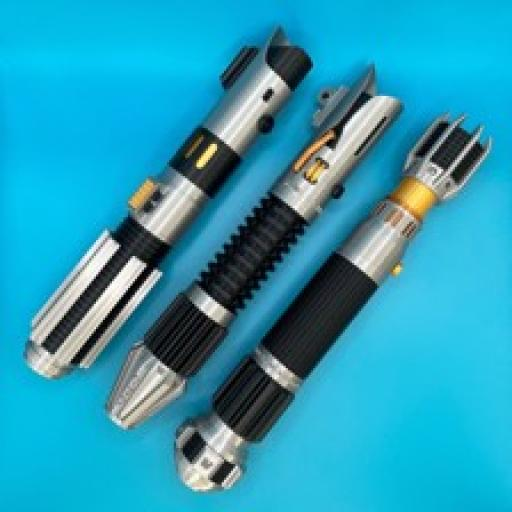lightsaber: (172, 115, 490, 491), (108, 65, 407, 430), (22, 26, 312, 379)
